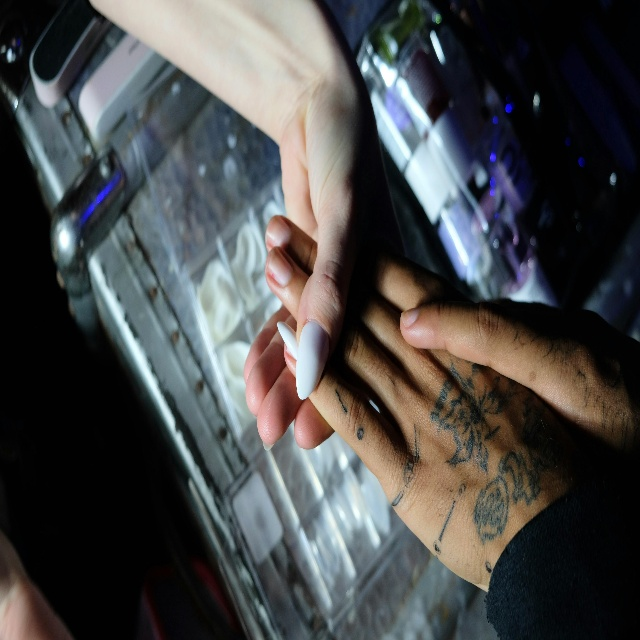Sin_guantes: (264, 215, 574, 591), (243, 60, 404, 452), (399, 295, 640, 454)
